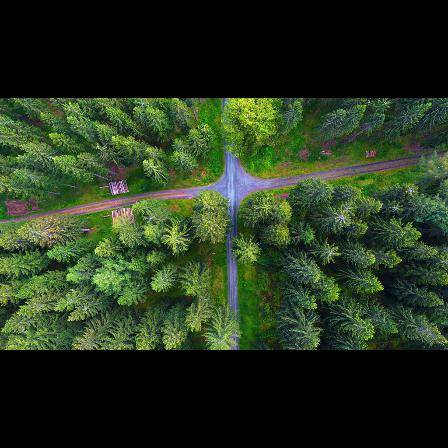Sick: (330, 209, 355, 228), (322, 242, 342, 264), (403, 181, 421, 198), (387, 200, 405, 216)
